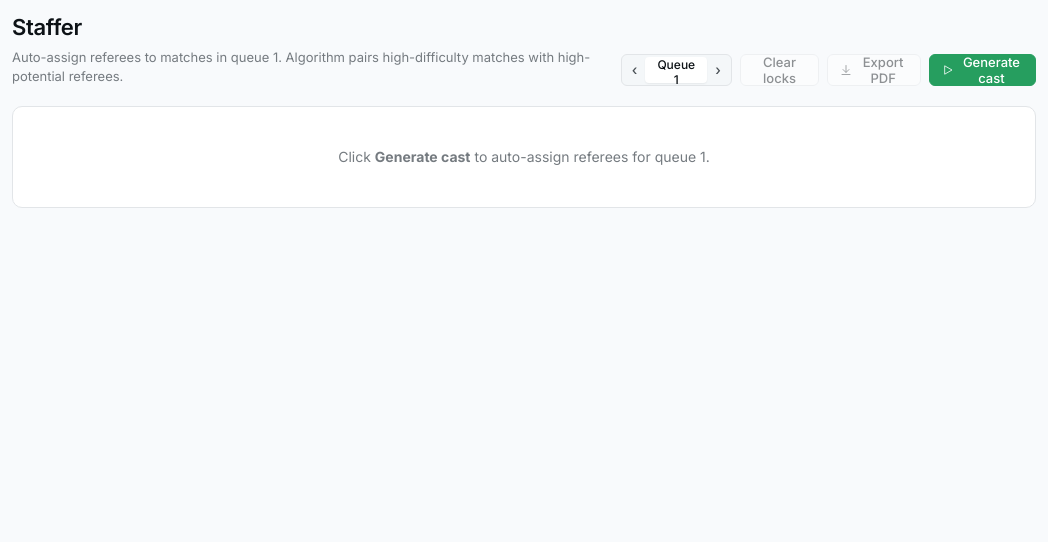
Test case: StafferComponent › template › renders the KPI strip and one row per match after generating
The image size is (1048, 542).
Click the button with class "btn--primary": [982, 70] box [929,54,1036,86]
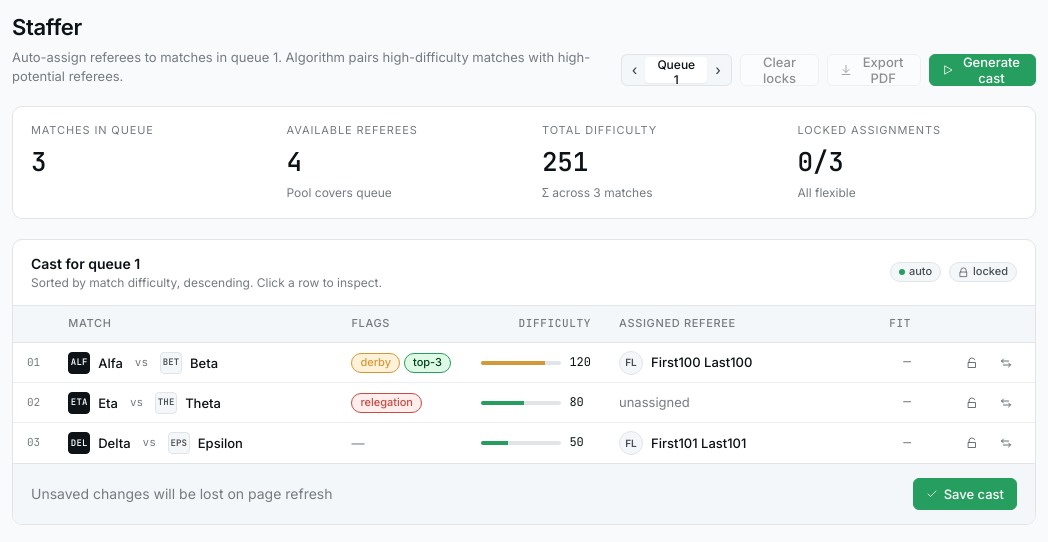
Now the element with class "empty-state" is gone
Now the element that starts with "Matches in queue" is shown, box [12,106,1036,219]
Now the number of rows with class "cast-row" is 3, box [13,343,1035,383]; [13,383,1035,423]; [13,423,1035,463]
